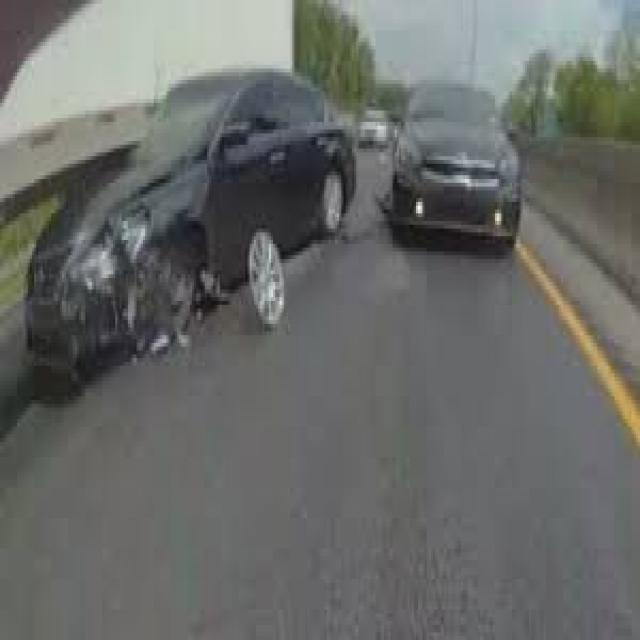accident: (2, 4, 378, 426)
